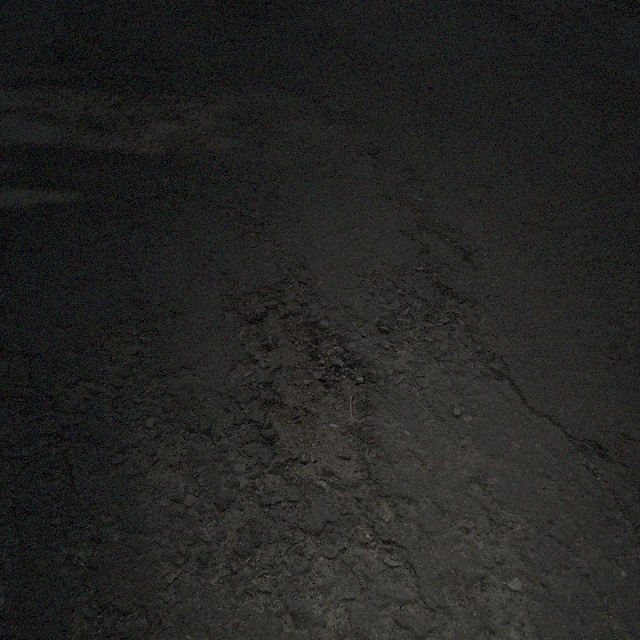pothole: (217, 276, 379, 490), (372, 273, 470, 356)
